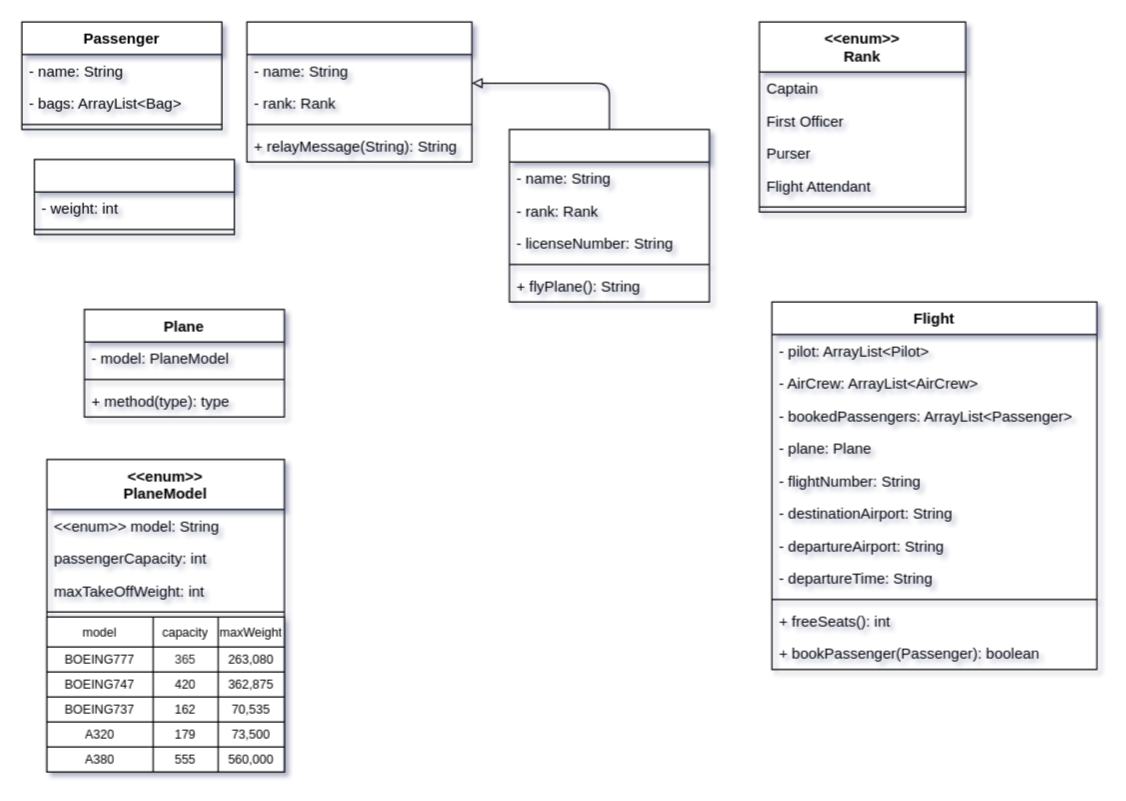
The diagram is 1126 pixels wide and 801 high, and some of its shapes have lost their labels. Each missing label, with the box of its shape:
AirCrew: (246, 21, 472, 162)
Bag: (33, 158, 234, 234)
Pilot: (508, 128, 709, 302)
